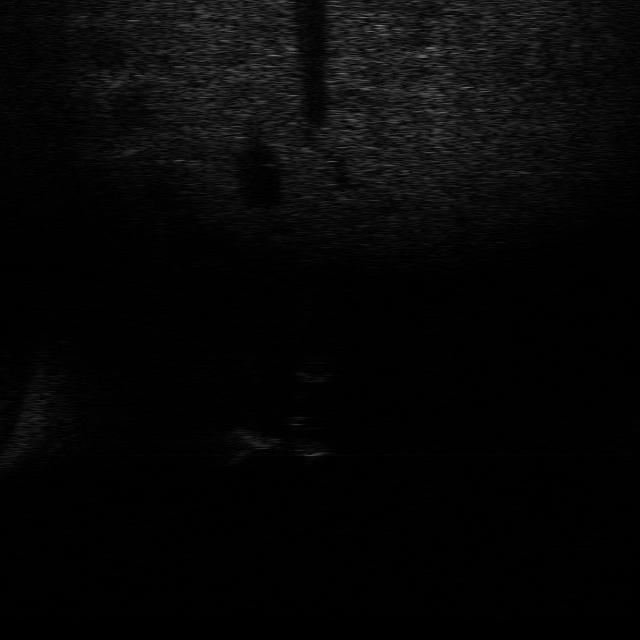ball: (288, 353, 342, 385)
square cage: (214, 422, 286, 468)
tyre: (282, 413, 342, 462)
